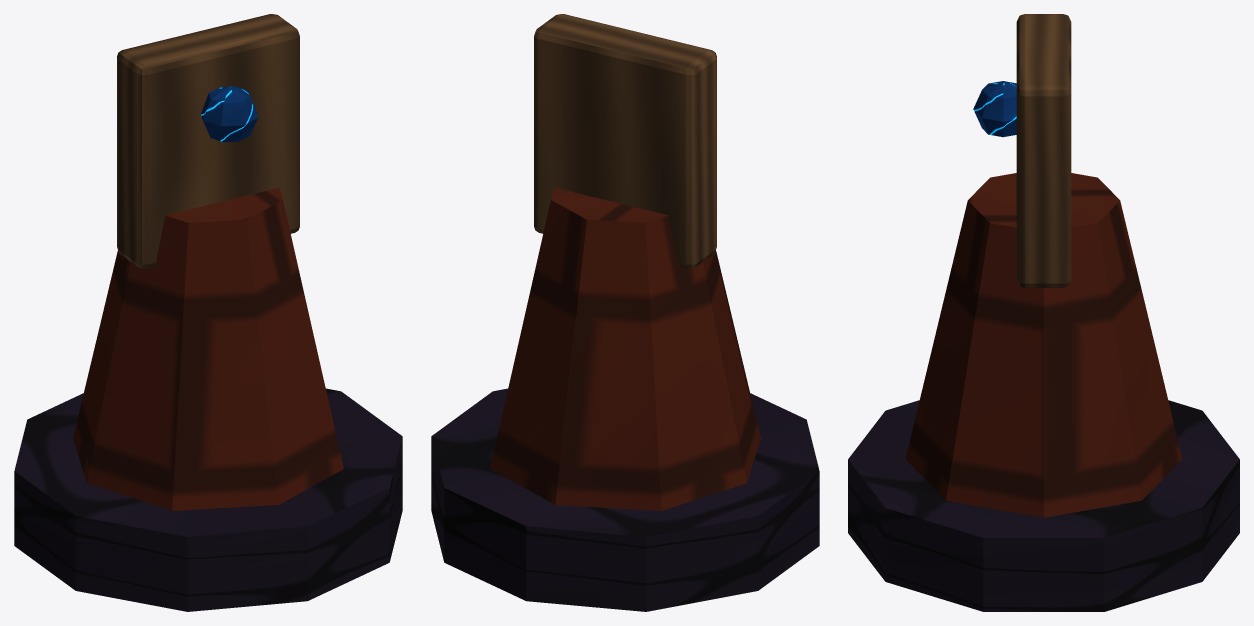
Rendered from SM_FC_LorePedestal.fbx.
3 renders of one model, left to right at view 1: azimuth 30°, elevation 25°; view 2: azimuth 150°, elevation 25°; view 3: azimuth 270°, elevation 25°, orthographic.
Parts seen in each view (by area): view 1: SM_FC_LorePedestal; view 2: SM_FC_LorePedestal; view 3: SM_FC_LorePedestal.
Part boxes in pixels (x1,y1,x2,y2): SM_FC_LorePedestal: (14, 14, 402, 611); SM_FC_LorePedestal: (431, 14, 819, 611); SM_FC_LorePedestal: (848, 14, 1239, 611).
Size of what is drawn, in the model's own units: 1.37 by 1.96 by 1.44.
